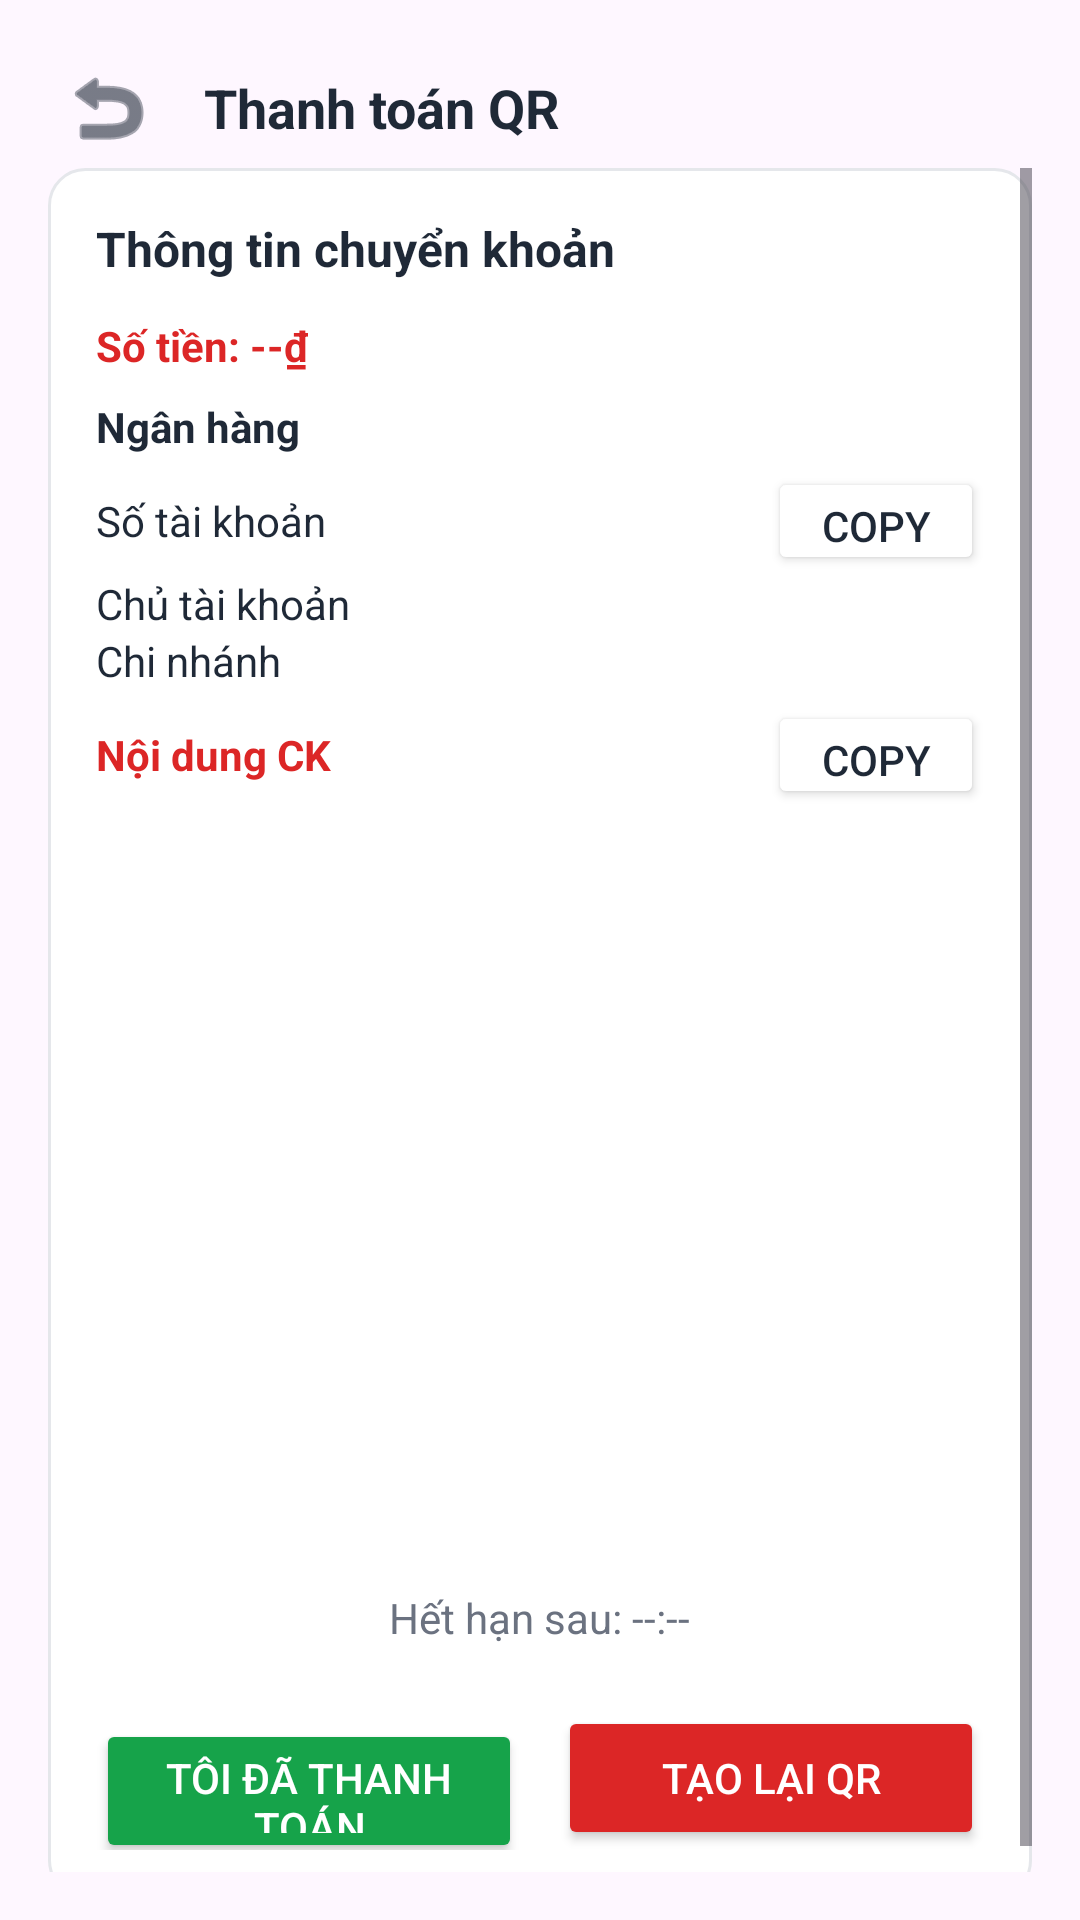

Icons on this 1080×1920 Android screen, each with the point to tap as point (x, y):
Quay lại: point (109, 108)
